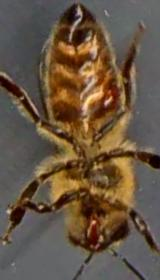varroa_mite: (94, 76, 120, 118)
